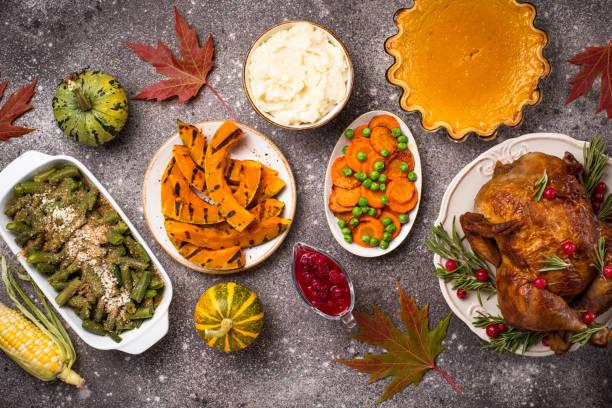Braised Crucian Carp: (435, 134, 612, 360), (2, 148, 171, 354), (140, 120, 290, 275), (386, 0, 548, 140), (323, 110, 422, 257), (242, 19, 352, 132)
